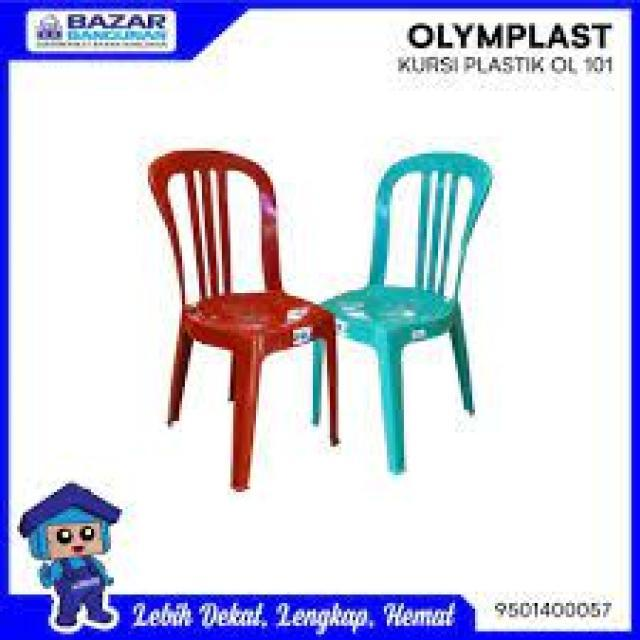chair: (140, 134, 350, 504), (308, 146, 508, 482)
